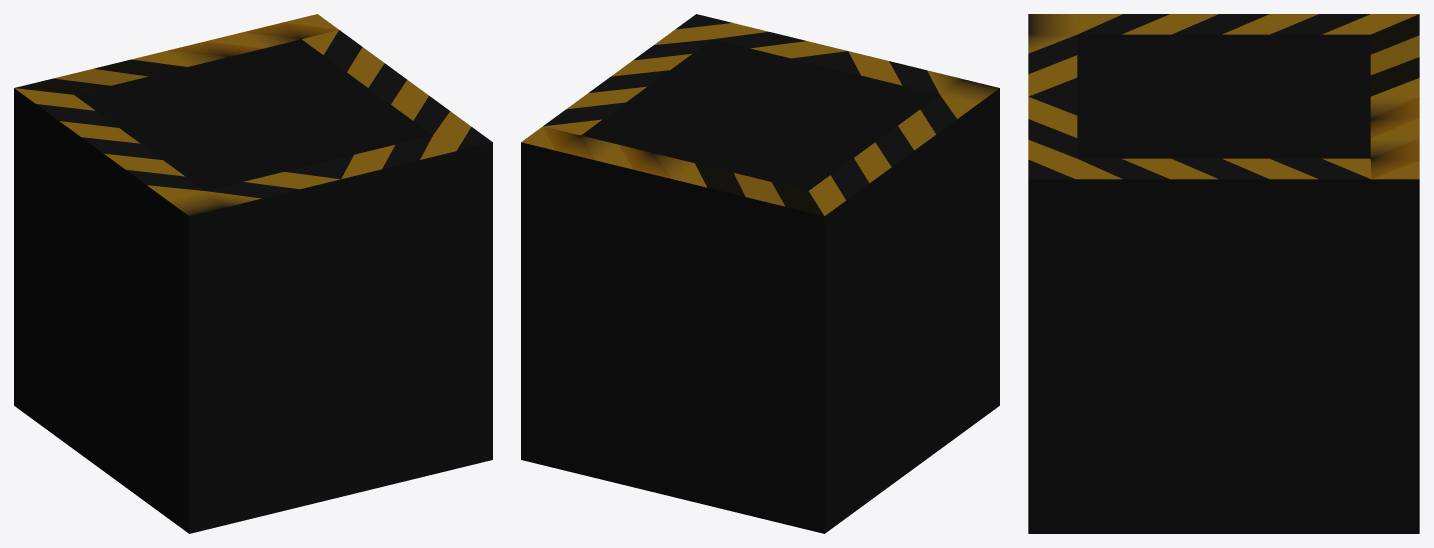
File: Floor_OneSided.fbx
3 views of the same model, side by side, from view 1: azimuth 30°, elevation 25°; view 2: azimuth 150°, elevation 25°; view 3: azimuth 270°, elevation 25° (orthographic). The views are drawn at different scales.
Parts seen in each view (by area): view 1: FactoryFloorBlock.005; view 2: FactoryFloorBlock.005; view 3: FactoryFloorBlock.005.
Part boxes in pixels (x1=…): FactoryFloorBlock.005: x1=14, y1=14, x2=492, y2=533; FactoryFloorBlock.005: x1=521, y1=14, x2=999, y2=533; FactoryFloorBlock.005: x1=1028, y1=14, x2=1419, y2=533.
Size of the model in its own units: 100 by 100 by 100.
